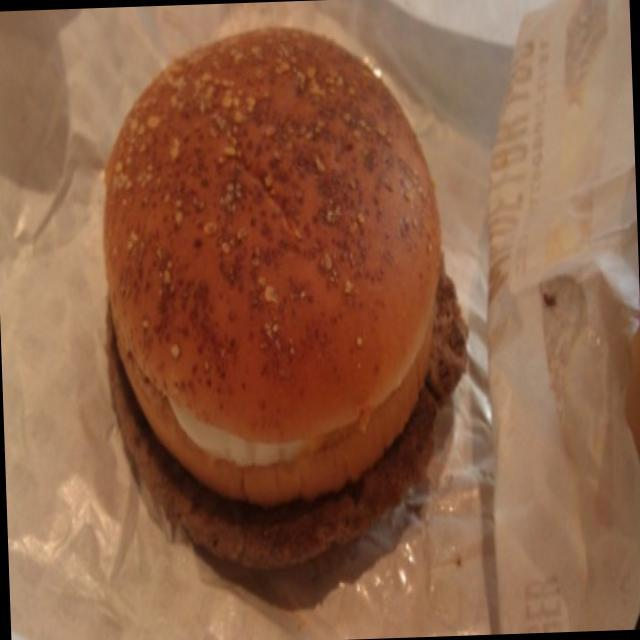Hamburger: (83, 14, 469, 591)
